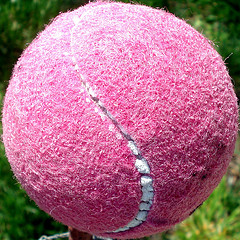tennis ball: (3, 1, 236, 239)
